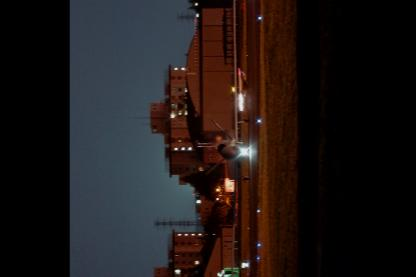P3: (205, 0, 250, 276)
